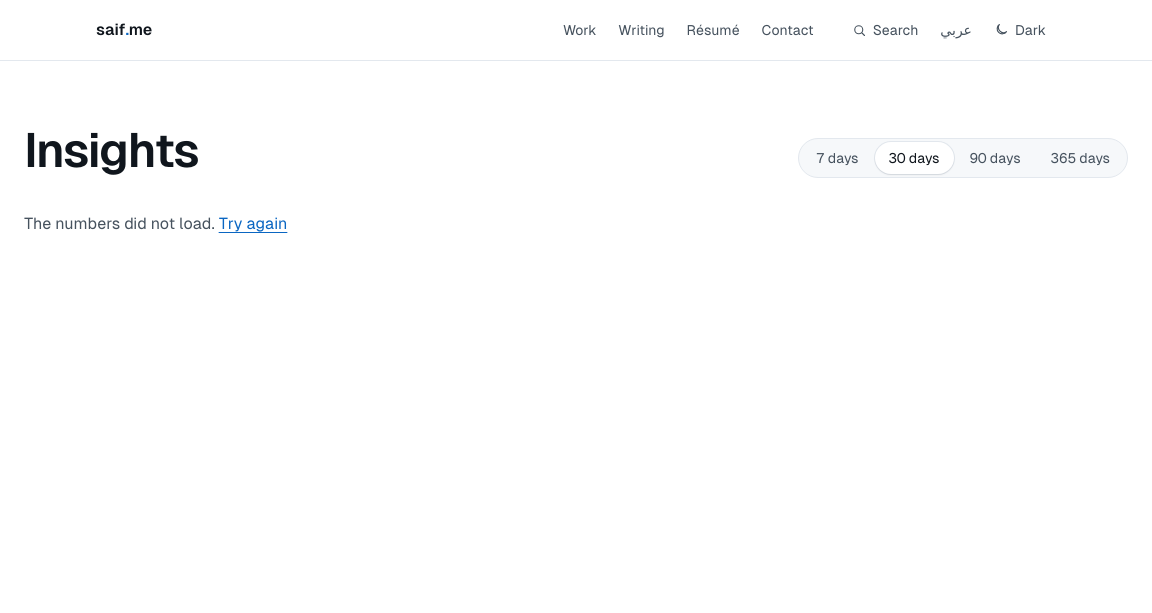
it: InsightsPage › offers a retry when the numbers fail to load
Click the button with class "insights-retry" at [253, 223], box [219, 210, 287, 237]
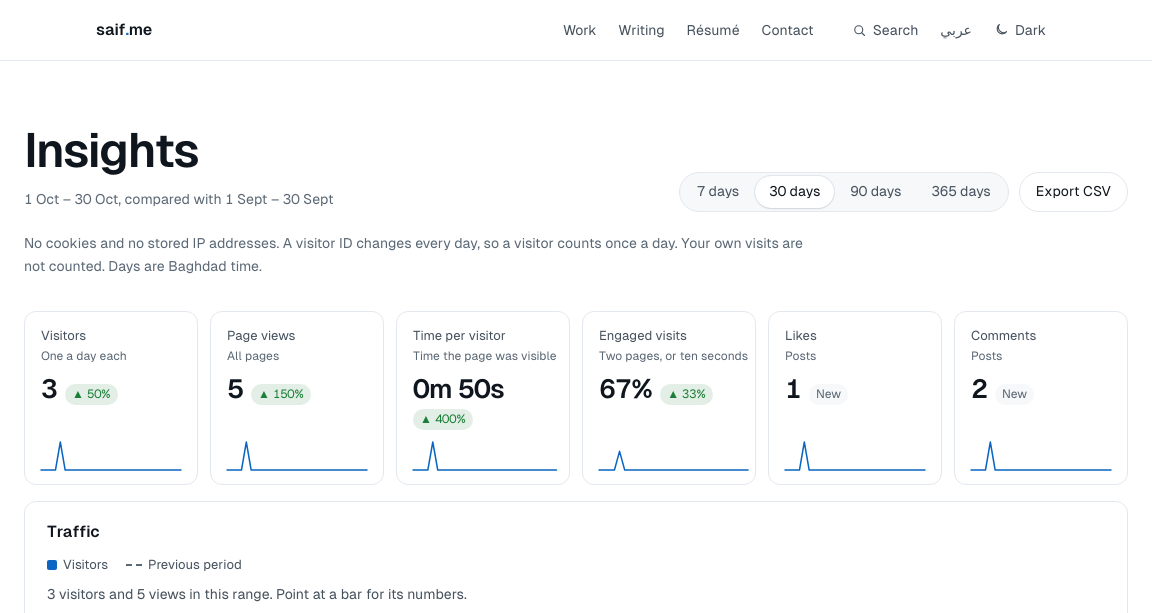
Now the number of elements with class "insights-kpi" is 6, box [24, 311, 198, 485]; [210, 311, 384, 485]; [396, 311, 570, 485]; [582, 311, 756, 485]; [768, 311, 942, 485]; [954, 311, 1128, 485]
